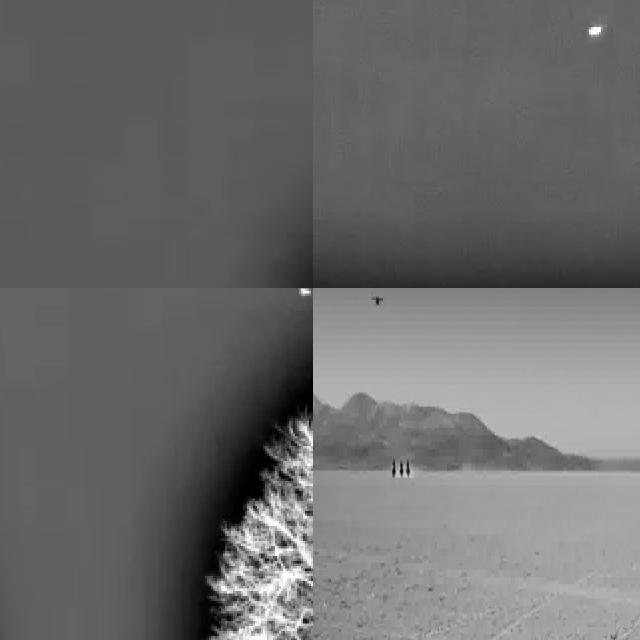0: (286, 288, 313, 313)
1: (584, 21, 608, 43)
drone: (364, 288, 385, 312)
